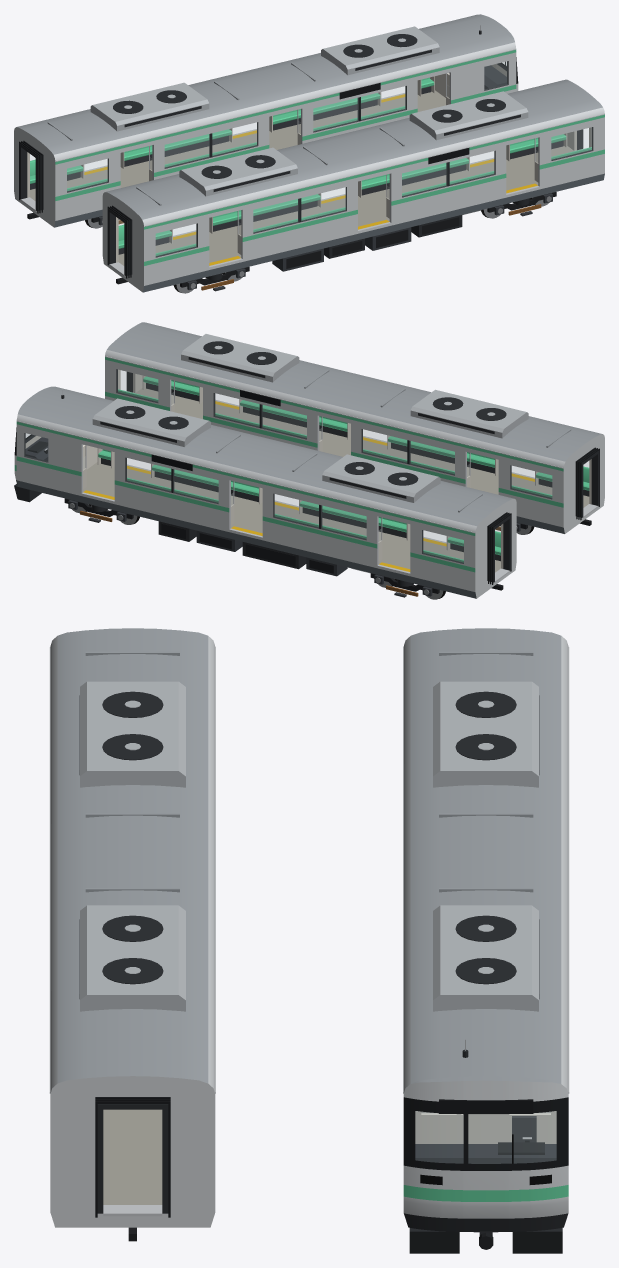
File: metro-car.glb
3 views of the same model, one above another, from view 1: azimuth 30°, elevation 25°; view 2: azimuth 150°, elevation 25°; view 3: azimuth 270°, elevation 25° (orthographic). The views are drawn at different scales.
Parts seen in each view (by area): view 1: car_mid_ext, car_cab_ext, car_mid_int, car_cab_int; view 2: car_cab_ext, car_mid_ext, car_cab_int, car_mid_int; view 3: car_cab_ext, car_mid_ext, car_cab_int, car_mid_int.
Part boxes in pixels (x1,y1,x2,y2): car_mid_ext: (102, 79, 604, 293); car_cab_ext: (14, 14, 518, 228); car_mid_int: (116, 127, 591, 268); car_cab_int: (27, 61, 506, 203); car_cab_ext: (14, 386, 516, 599); car_mid_ext: (105, 322, 604, 534); car_cab_int: (25, 435, 503, 574); car_mid_int: (118, 369, 591, 510); car_cab_ext: (403, 628, 569, 1253); car_mid_ext: (49, 628, 215, 1241); car_cab_int: (415, 1111, 556, 1163); car_mid_int: (103, 1109, 162, 1207).
Size of the model in its own units: 18.72 by 3.9 by 8.83.
